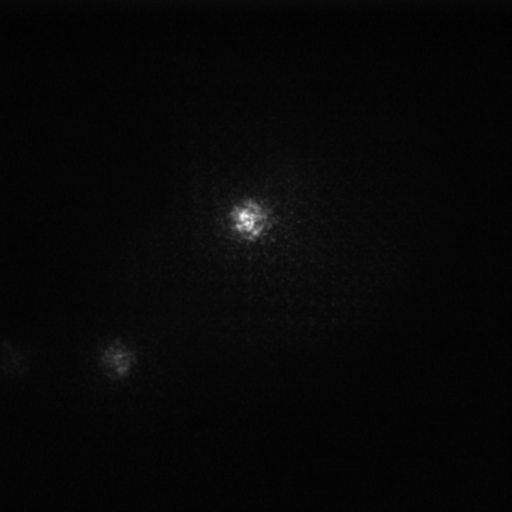lam1: (230, 200, 266, 239)
